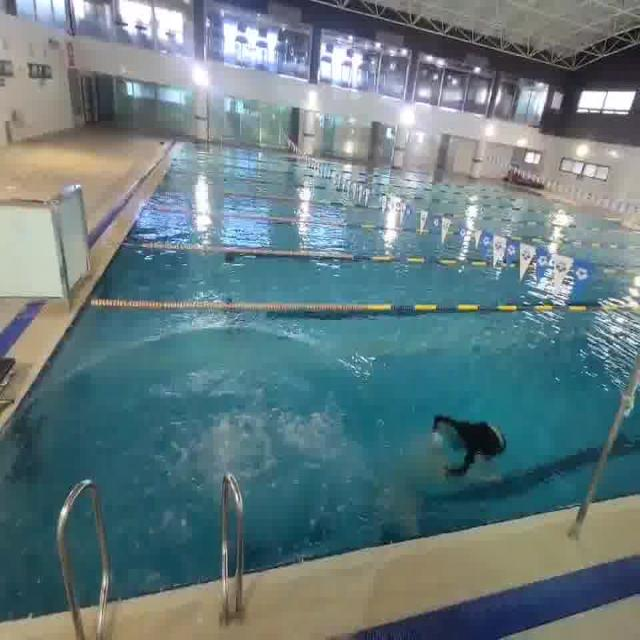Drowning: (427, 398, 516, 493)
